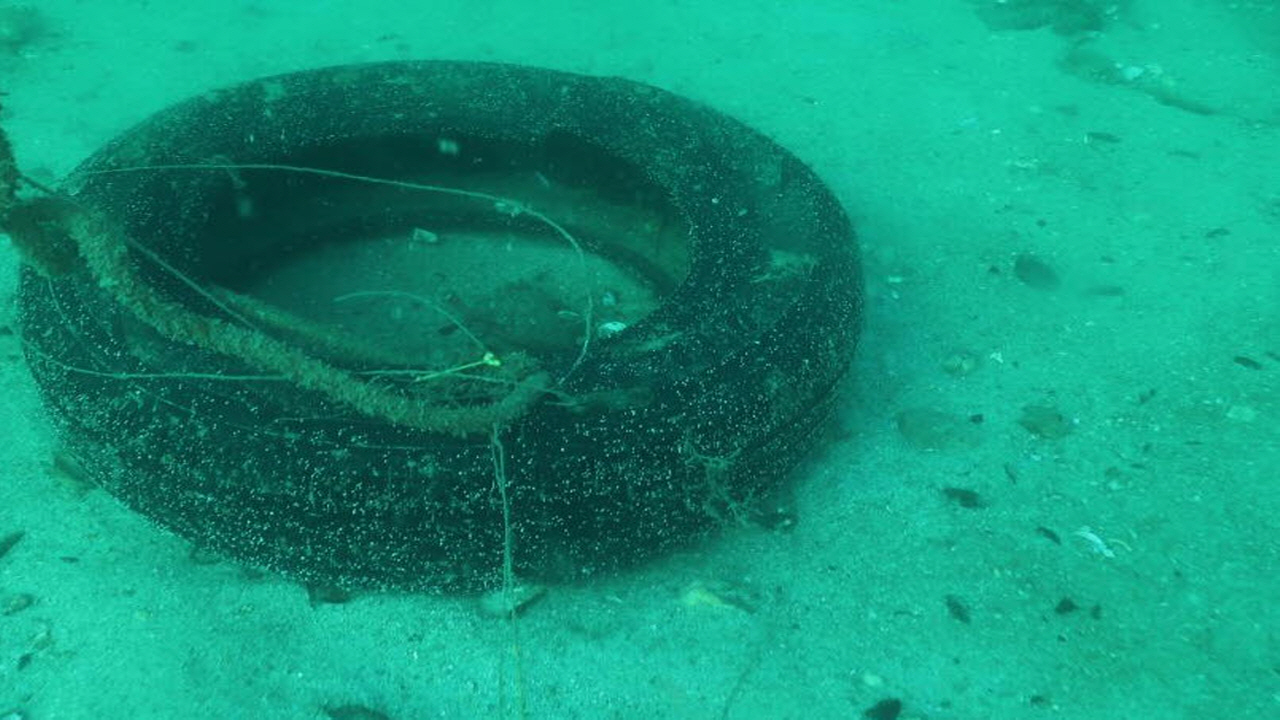rope: (0, 193, 552, 433)
tire: (14, 56, 867, 591)
